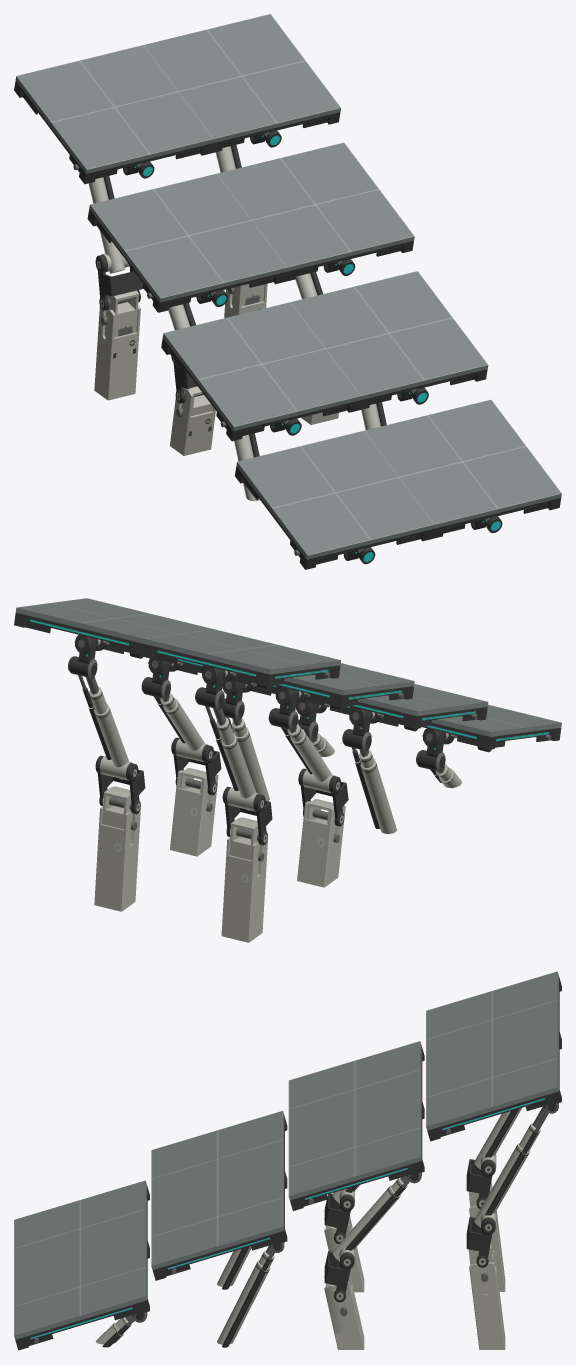
File: step.glb
3 views of the same model, one above another, from view 1: azimuth 30°, elevation 25°; view 2: azimuth 150°, elevation 25°; view 3: azimuth 270°, elevation 25° (orthographic). The views are drawn at different scales.
Visible parts, largest first — view 1: arm4_stairs_model.001; view 2: arm4_stairs_model.001; view 3: arm4_stairs_model.001.
Part boxes in pixels (x1=…): arm4_stairs_model.001: x1=14, y1=14, x2=561, y2=569; arm4_stairs_model.001: x1=14, y1=598, x2=561, y2=942; arm4_stairs_model.001: x1=14, y1=971, x2=561, y2=1350.
Bounding box in the file's own units: 2 × 2.3 × 4.
1 material, 1 textured.
